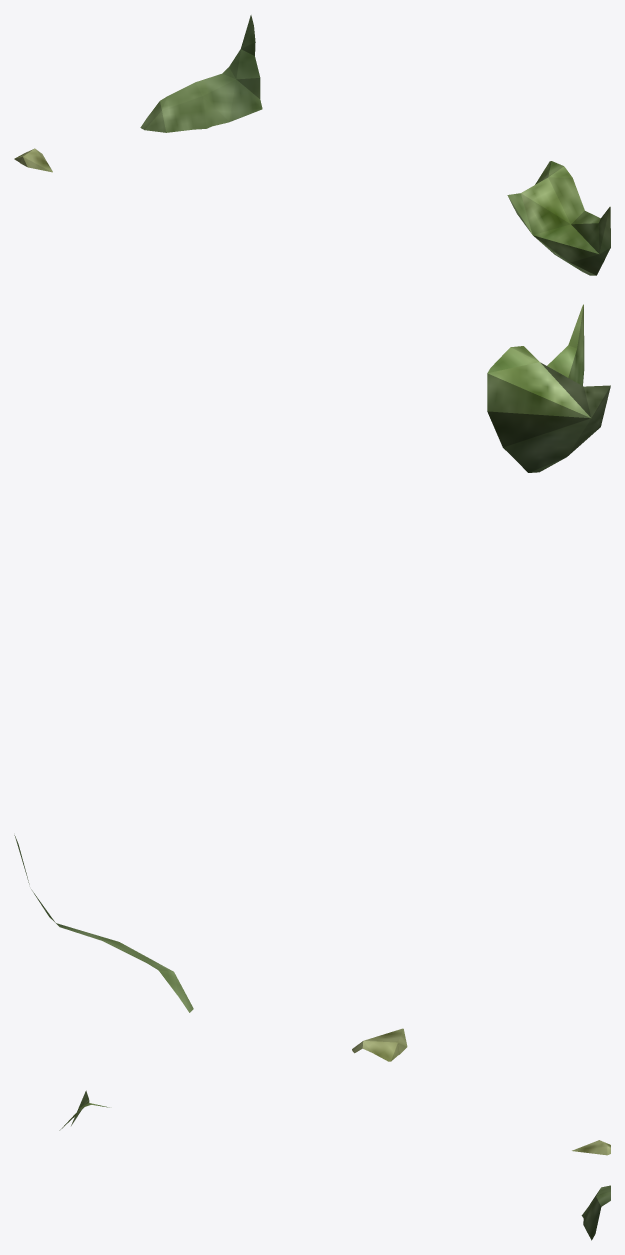
3 views of the same model, one above another, from view 1: azimuth 30°, elevation 25°; view 2: azimuth 150°, elevation 25°; view 3: azimuth 270°, elevation 25° (orthographic). The views are drawn at different scales.
Size of the model in its own units: 1.33 by 0.8801 by 3.5.
Materials: 1 (1 with a texture image).
